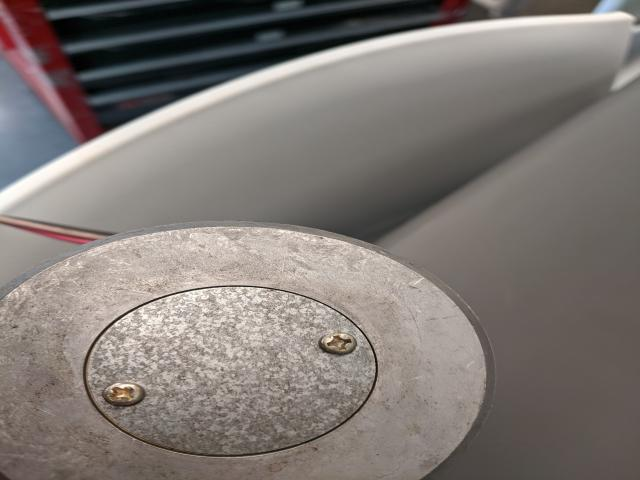CRS: (104, 381, 144, 406), (317, 333, 358, 354)
